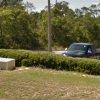Tree: (15, 4, 77, 52)
